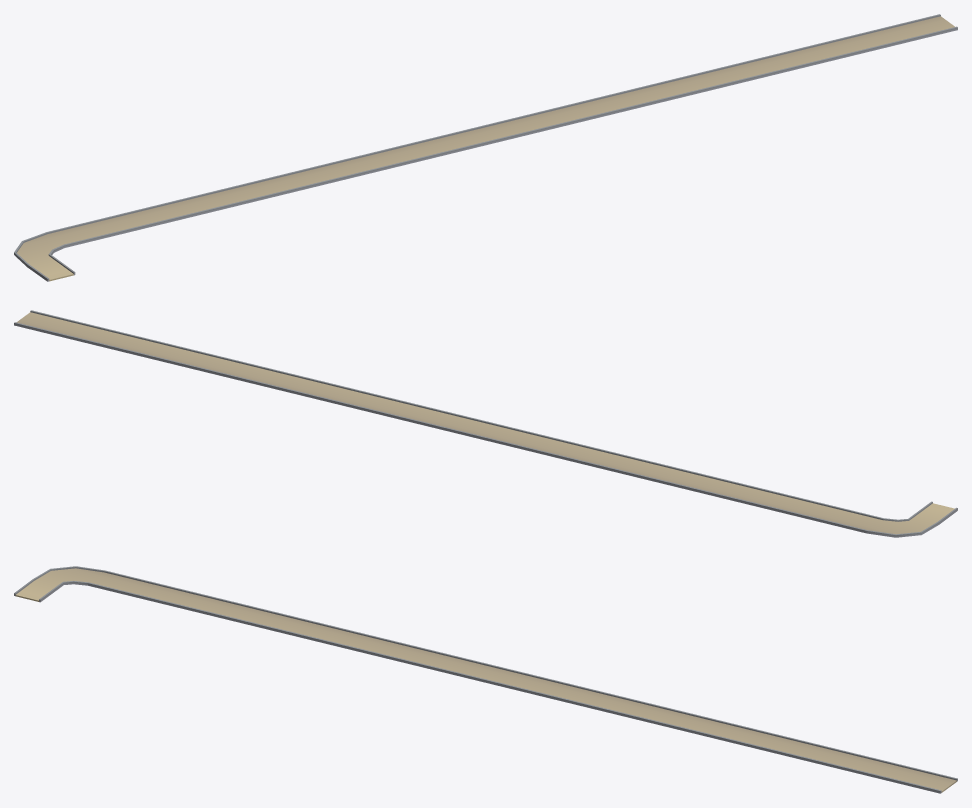
File: sidewalk_24.fbx
The picture shows the model from 3 angles, top to bottom: view 1: azimuth 30°, elevation 25°; view 2: azimuth 150°, elevation 25°; view 3: azimuth 330°, elevation 25°; orthographic projection. The views are drawn at different scales.
Visible parts, largest first — view 1: sidewalk_23; view 2: sidewalk_23; view 3: sidewalk_23.
Part boxes in pixels (x1,y1,x2,y2): sidewalk_23: (14,14,957,281); sidewalk_23: (14,310,957,537); sidewalk_23: (14,566,957,793).
Size of the model in its own units: 9.8 by 0.0278 by 0.8746.
Materials: 1 (1 with a texture image).
